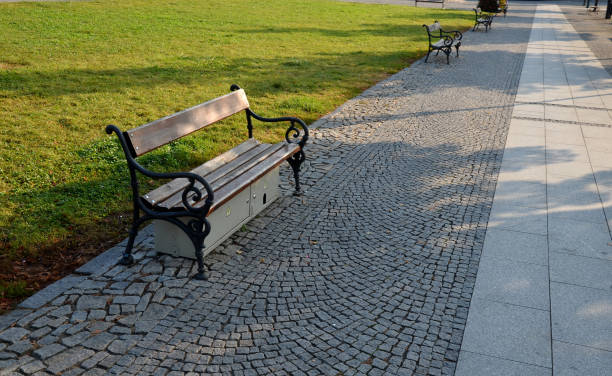bench: (108, 80, 309, 278)
